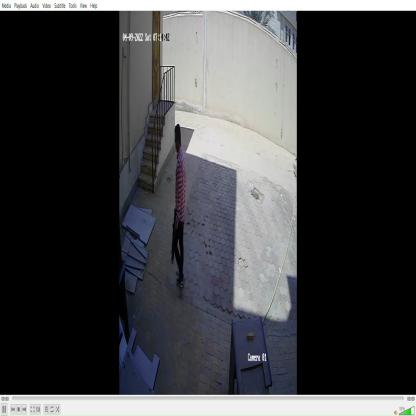handgun: (169, 204, 183, 271)
